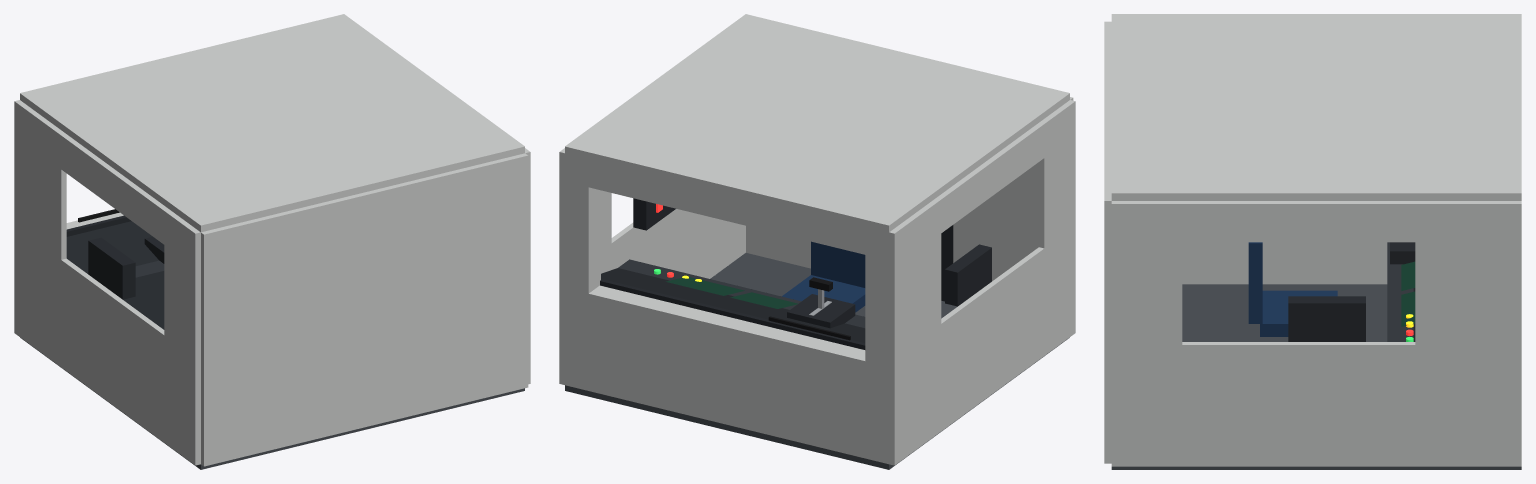
The model's file is taipei-hc-cab.glb.
3 renders of one model, left to right at view 1: azimuth 30°, elevation 25°; view 2: azimuth 150°, elevation 25°; view 3: azimuth 270°, elevation 25°, orthographic. The views are drawn at different scales.
Visible parts, largest first — view 1: CabBody; view 2: CabBody, InfoScreen, SpeedScreen; view 3: CabBody, InfoScreen.
Boxes of the visible parts, x1,y1,x2,y2 form: CabBody: (14,14,530,469); CabBody: (559,14,1075,469); InfoScreen: (666,277,744,295); SpeedScreen: (730,292,797,308); CabBody: (1104,14,1521,469); InfoScreen: (1401,291,1415,326).
Size of the model in its own units: 3.1 by 2.16 by 2.95.
